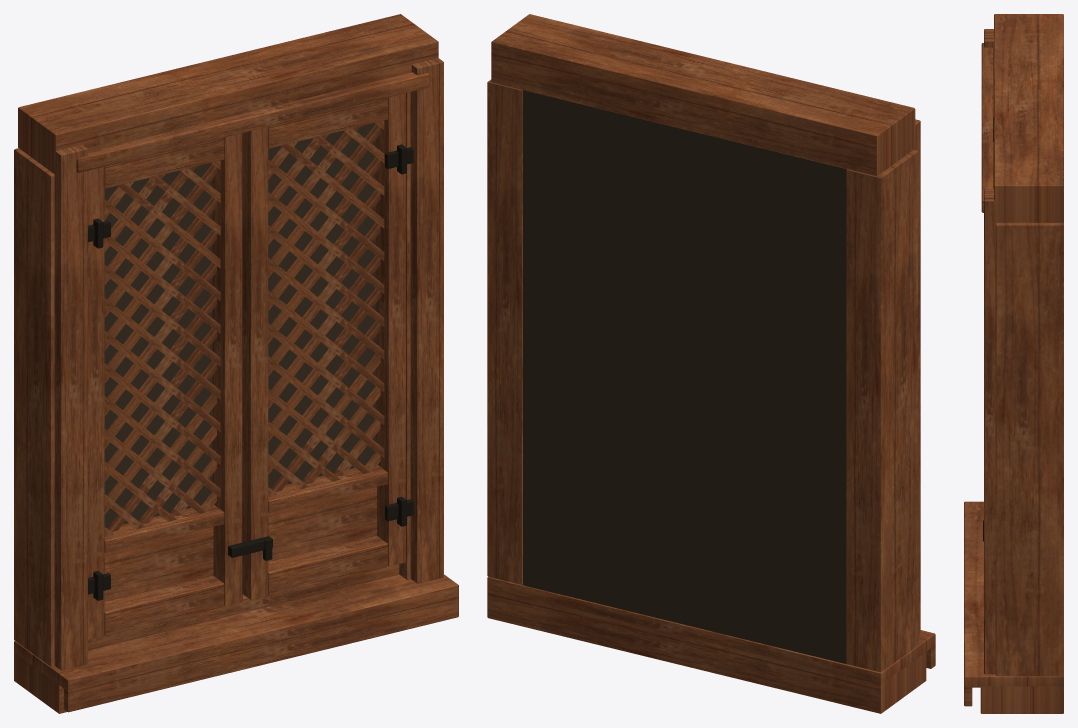
Rendered from central-screen-sc-c.glb.
3 views of the same model, side by side, from view 1: azimuth 30°, elevation 25°; view 2: azimuth 150°, elevation 25°; view 3: azimuth 270°, elevation 25° (orthographic). The views are drawn at different scales.
Parts seen in each view (by area): view 1: central-screen-sc-c; view 2: central-screen-sc-c; view 3: central-screen-sc-c.
Boxes of the visible parts, x1,y1,x2,y2 form: central-screen-sc-c: (14,14,458,713); central-screen-sc-c: (487,14,935,713); central-screen-sc-c: (964,14,1063,713).
Bounding box in the file's own units: 1 × 1.4 × 0.24.
2 materials, 1 textured.
